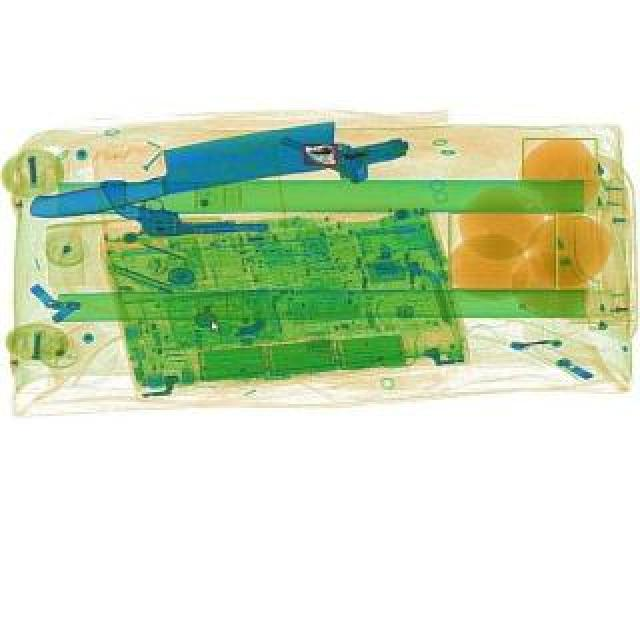gun: (274, 92, 410, 196), (100, 174, 268, 238)
knife: (20, 118, 344, 222)
